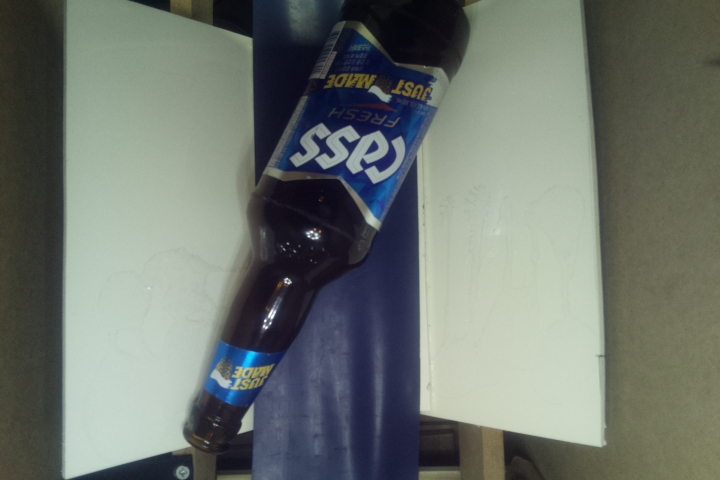makju: (180, 1, 471, 454)
